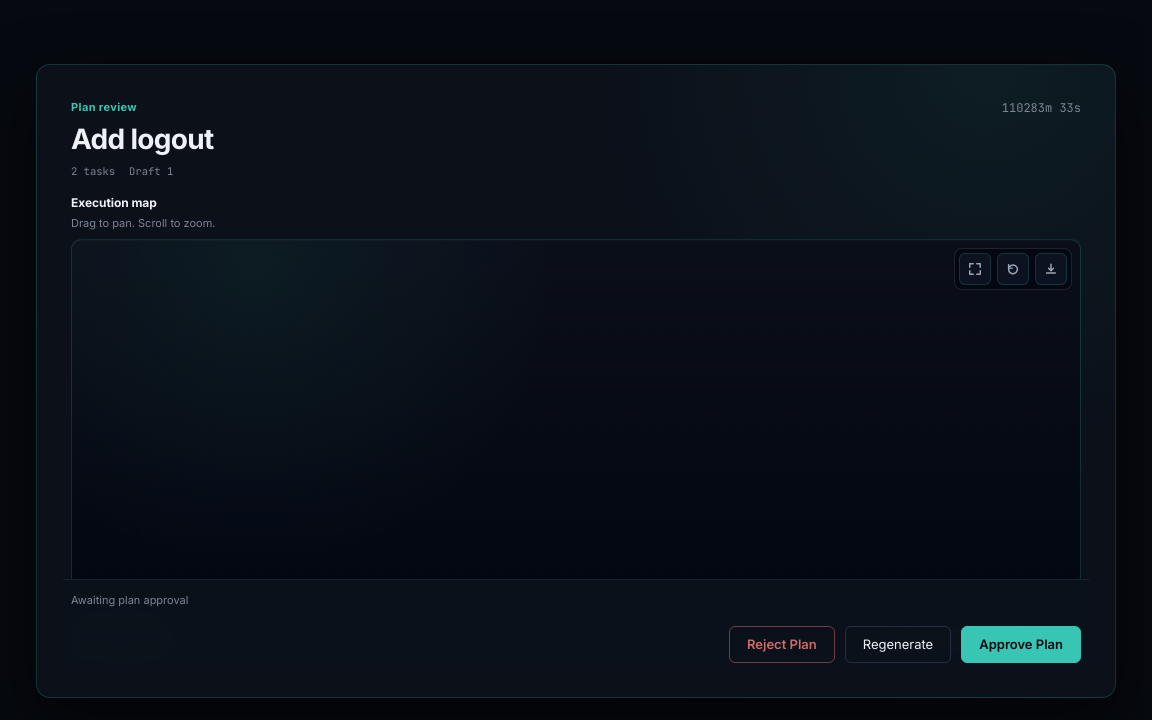
it: MissionPlanPreview › surfaces a confirmPlan error inline; Start button remains usable
Click the button "Approve Plan" at (1021,644), box 961,626 -> 1081,663
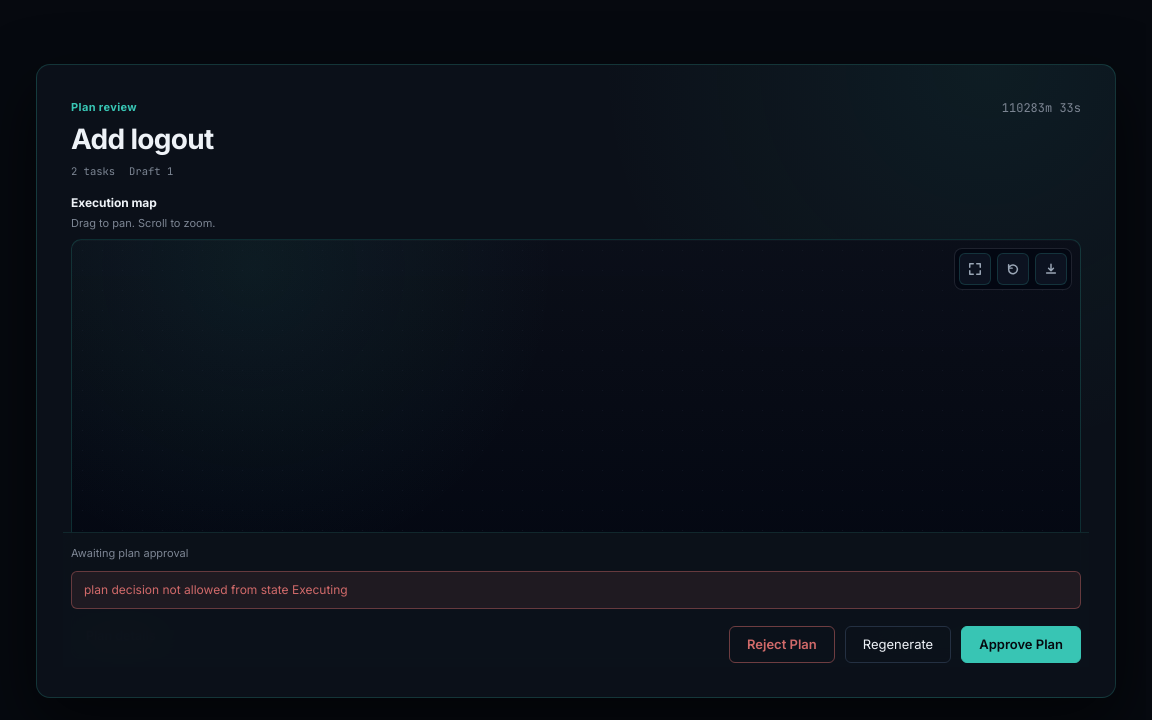
expect the text "plan decision not allowed from state Executing" is shown: met, box 71,570 -> 1081,608
